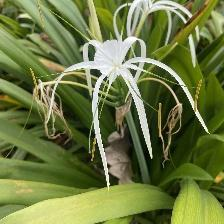spider lily: (31, 1, 215, 195)
